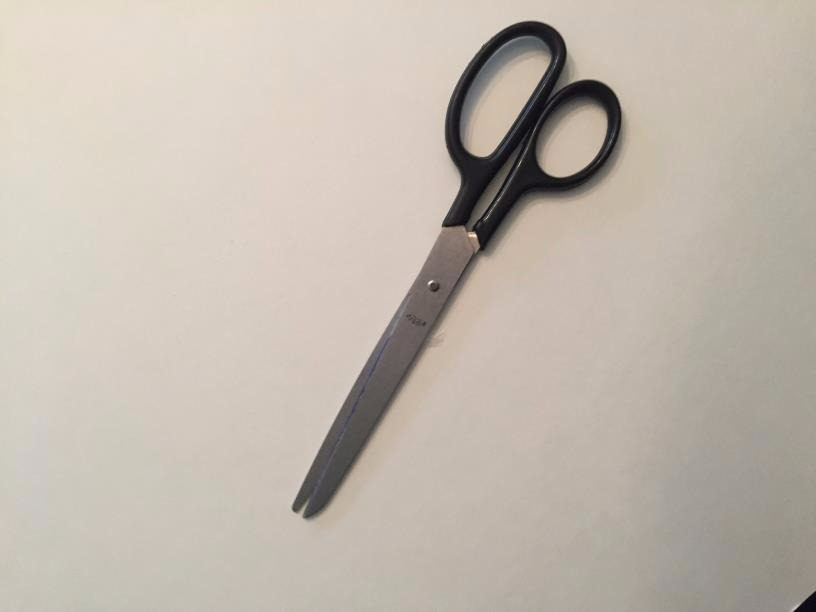scissor: (259, 8, 669, 539)
